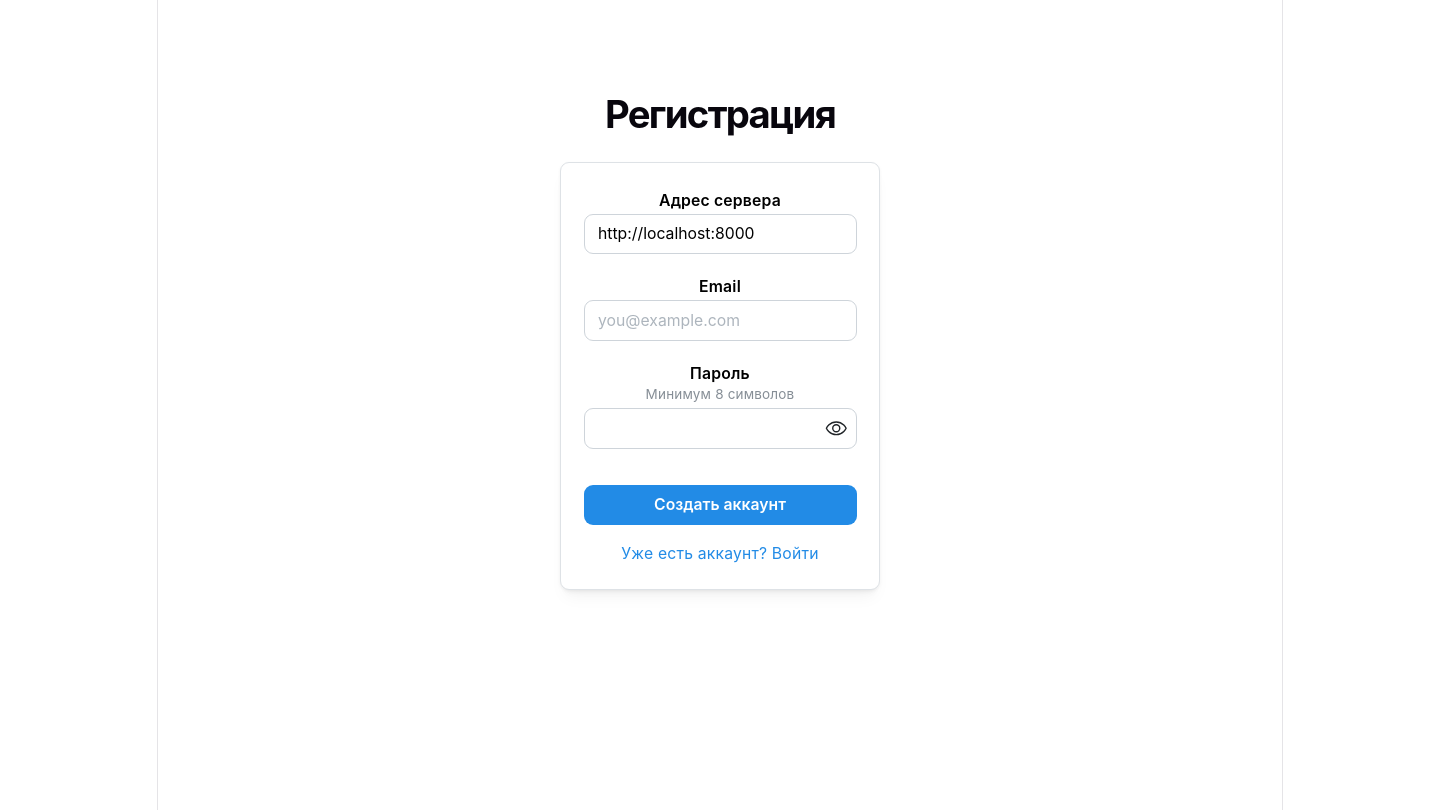
Test: в приложении пустой адрес сервера не даёт зарегистрироваться
Clear the field labelled "Адрес сервера": (720, 234) [584, 214, 856, 254]
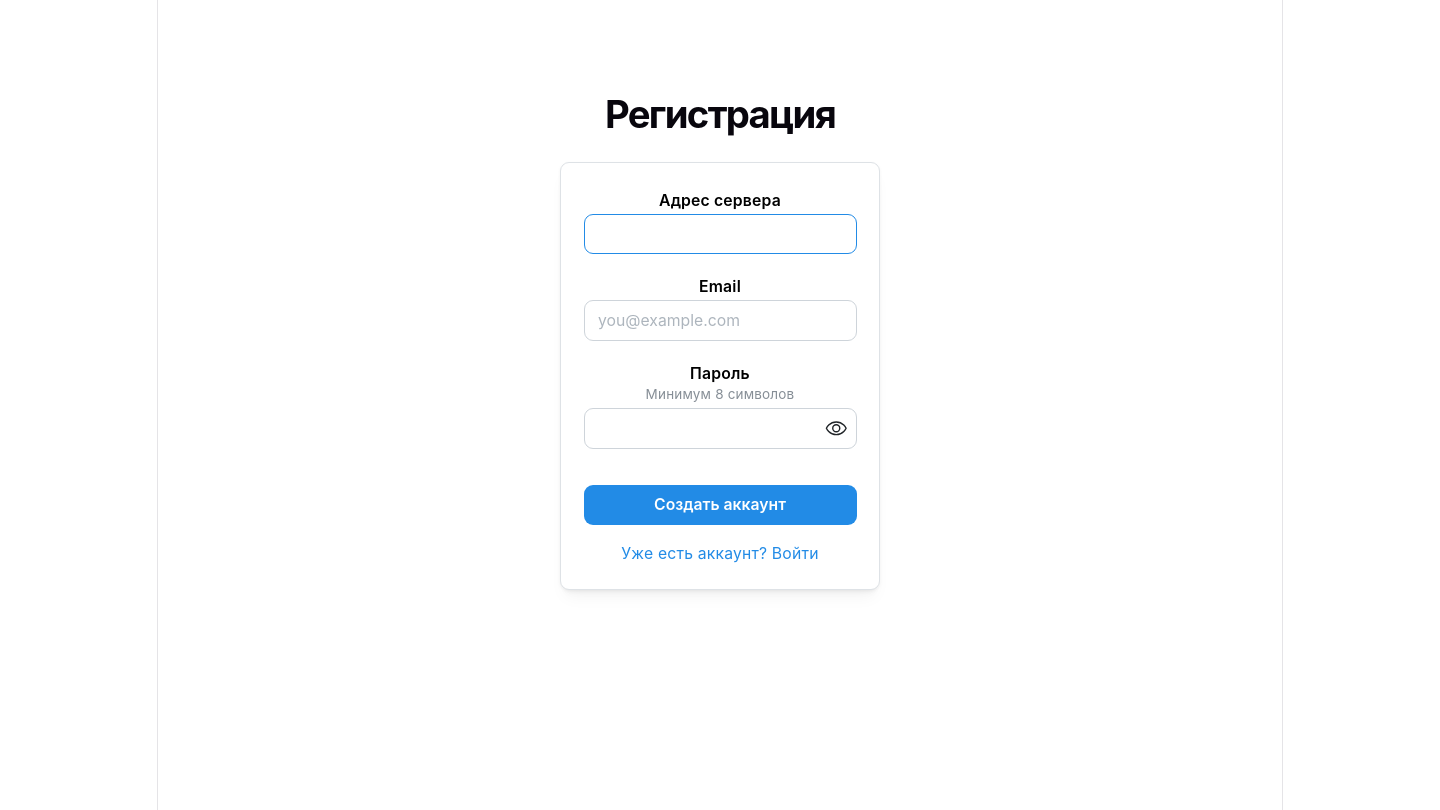
In the field labelled "Email": (720, 320) [584, 300, 856, 340], type "a@b.c"
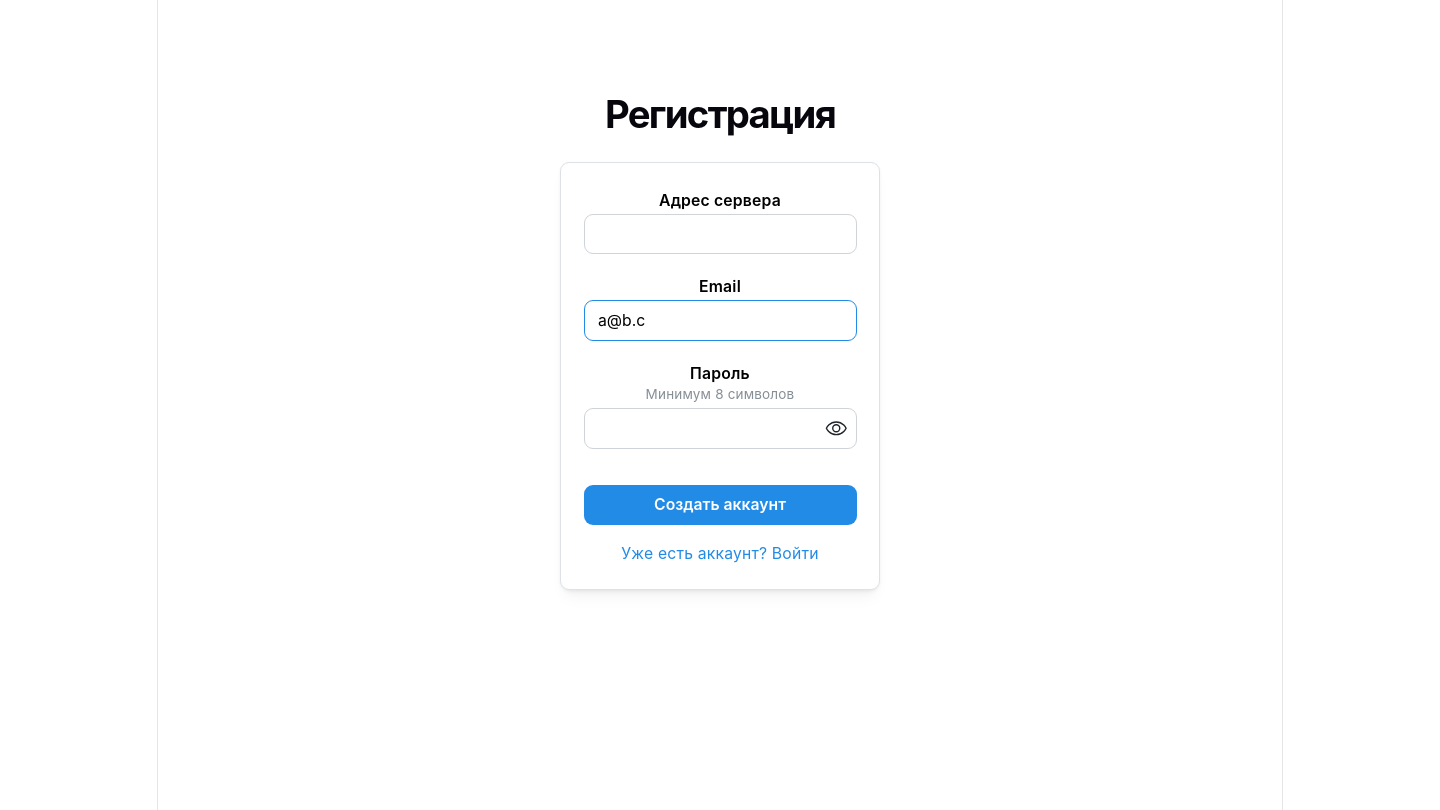
In the password field labelled "Пароль": (720, 428) [584, 409, 856, 448], type "password123"
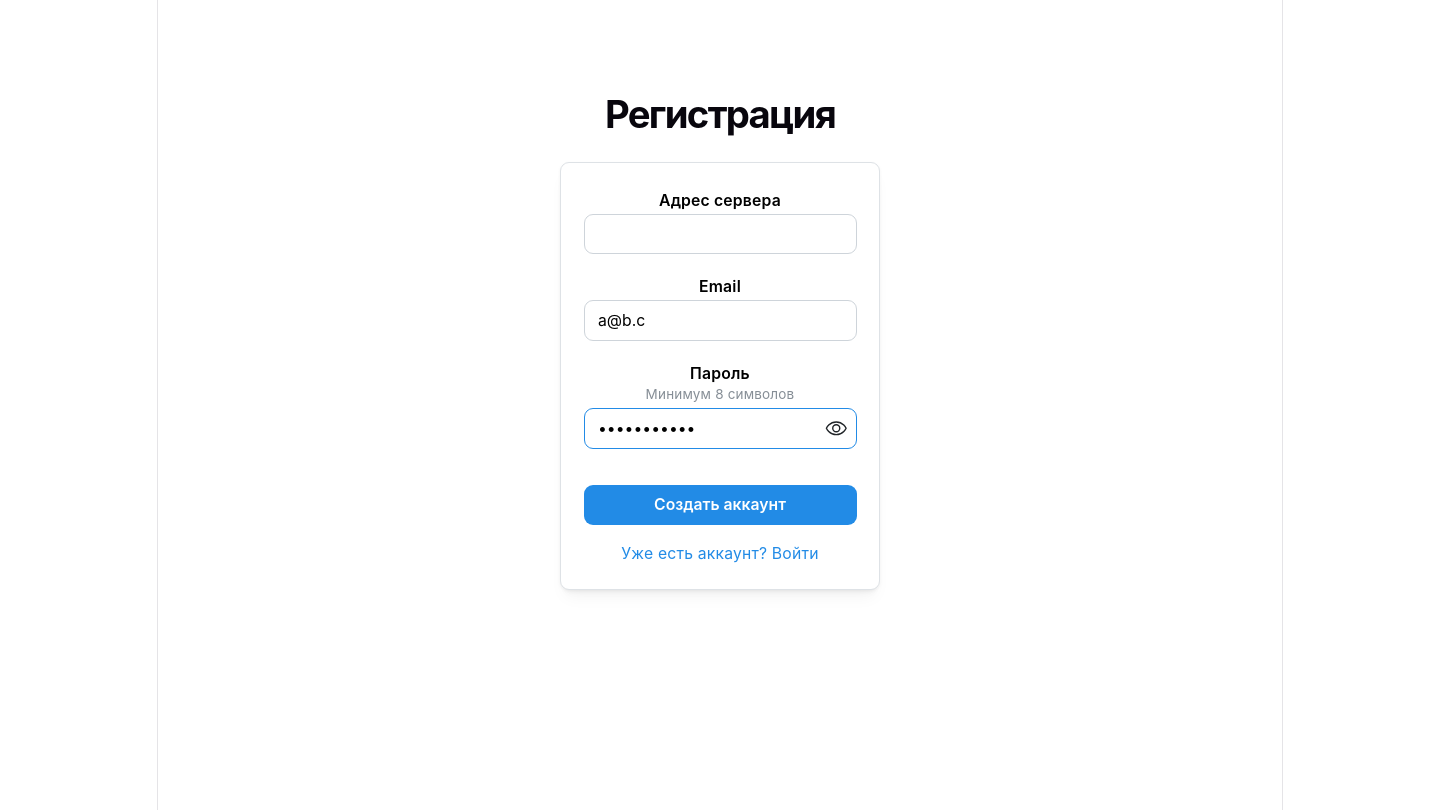
Click the button "Создать аккаунт": (720, 505) [584, 485, 856, 525]
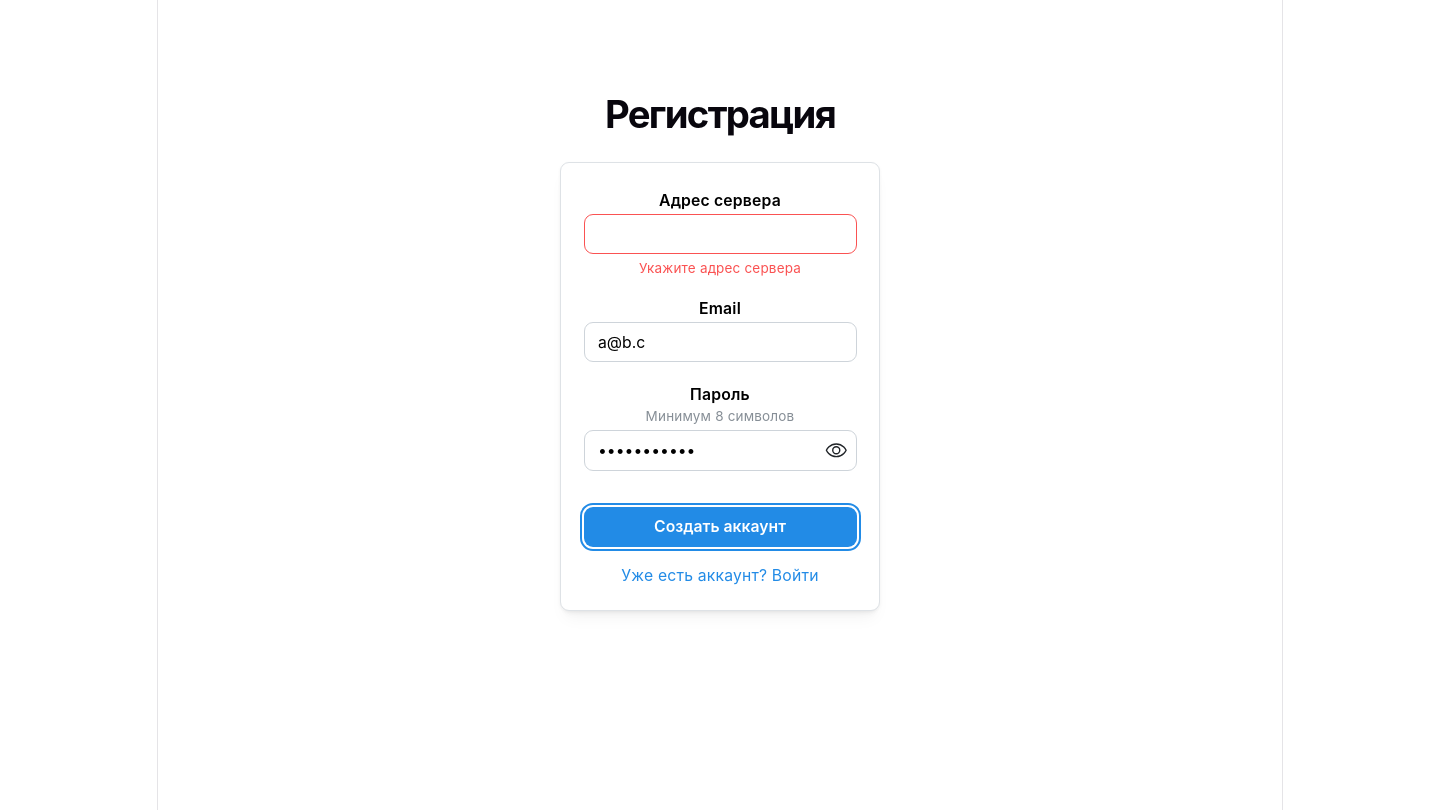
Expected: the text "Укажите адрес сервера" is shown, [639, 260, 801, 276]
